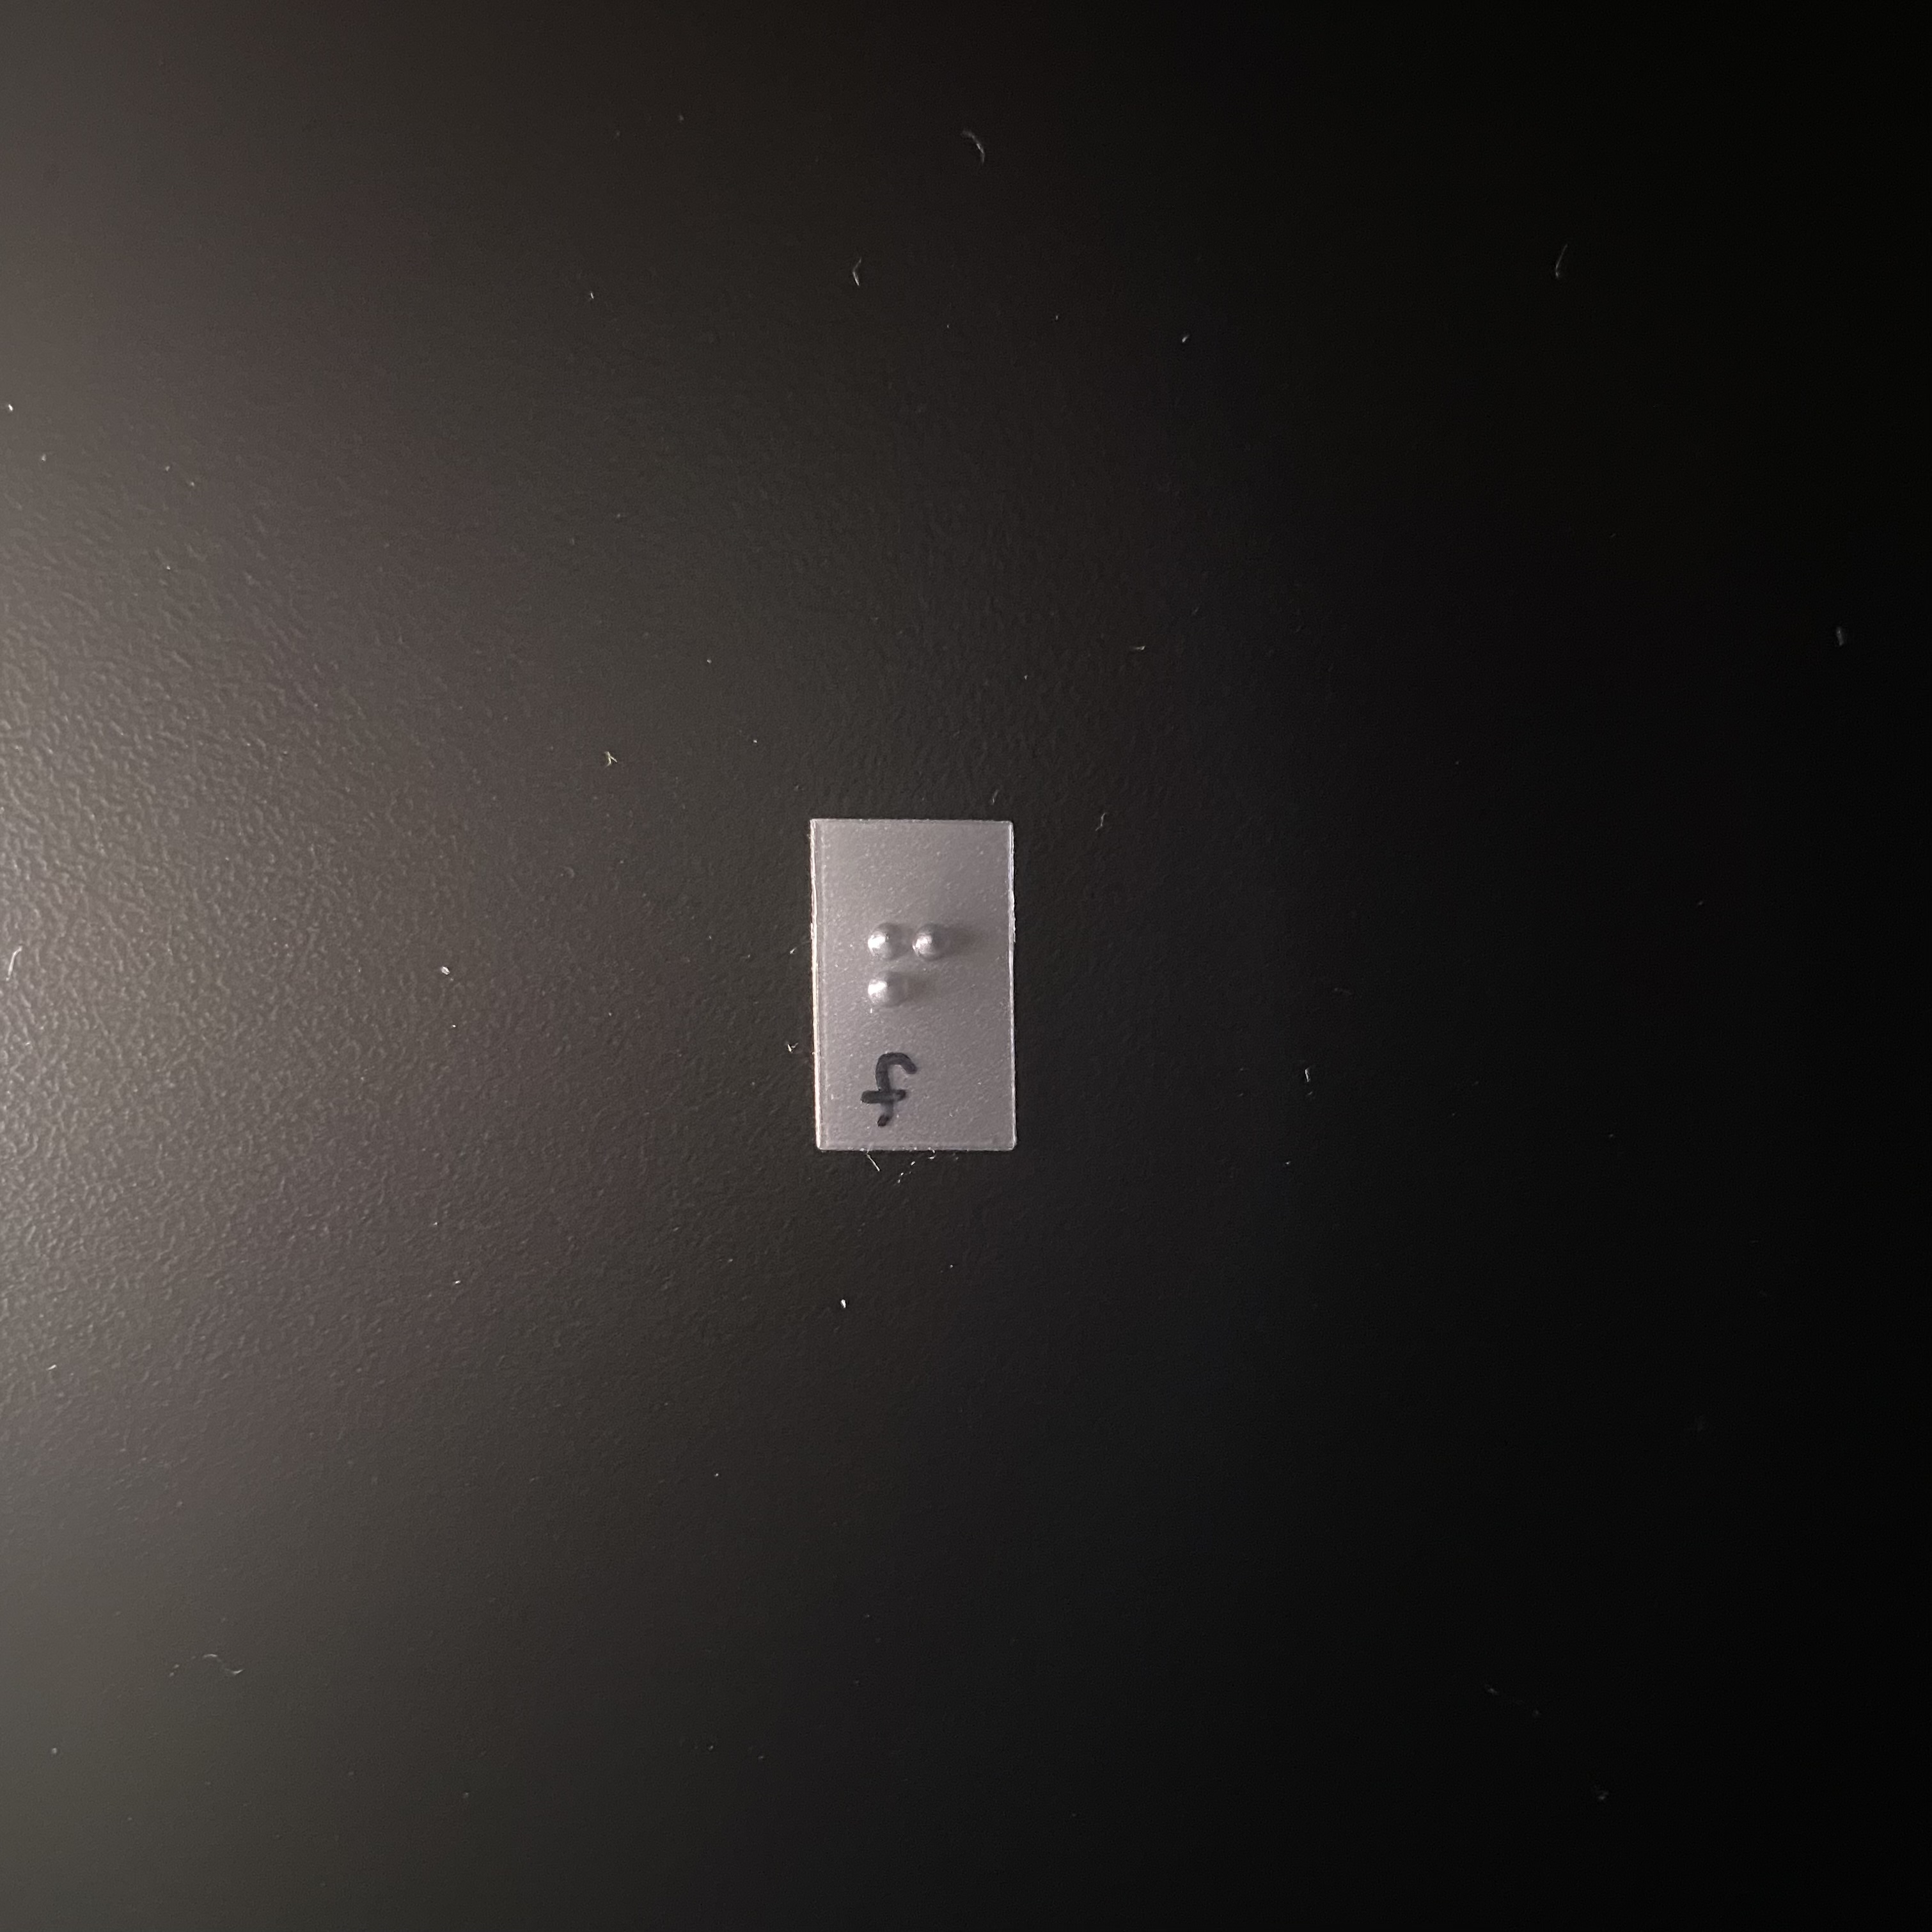f: (860, 905, 975, 1088)
